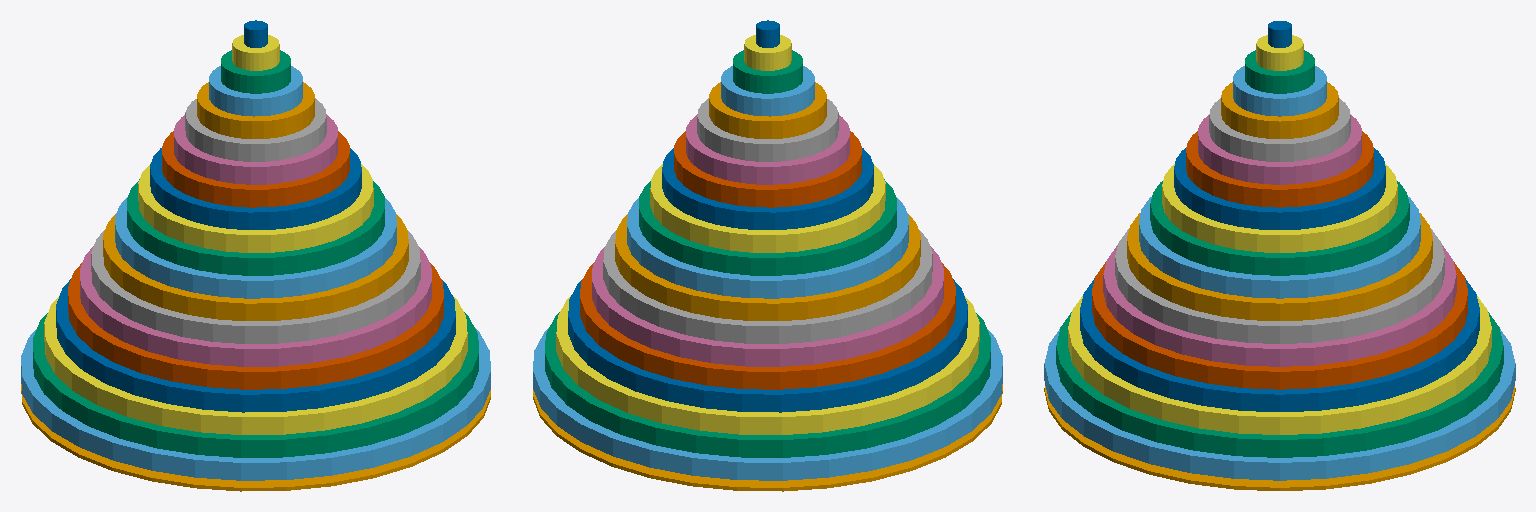
URDF robot description (5_cone):
<?xml version="1.0"?>

<robot name="5_cone">

    <!-- The base --> 
    <link name="base_link">
        <inertial>
            <origin xyz="0 0 0" rpy="0 0 0"/>
            <mass value="1"/>
            <inertia ixx="0.1" ixy="0.0" ixz="0.0" iyy="0.1" iyz="0.0" izz="0.1"/>
        </inertial>
        <visual>
            <origin xyz="0 0 0" rpy="0 0 0"/>
            <geometry>
                <cylinder length="0.01" radius="0.6"/>
            </geometry>
        </visual>
        <collision>
            <origin xyz="0 0 0" rpy="0 0 0"/>
            <geometry>
                <cylinder length="0.01" radius="0.6"/>
            </geometry>
        </collision>
    </link>

    <!-- 0 -->
    <link name="0_link">
        <inertial>
            <origin xyz="0 0 0" rpy="0 0 0"/>
            <mass value="1"/>
            <inertia ixx="0.01" ixy="0.0" ixz="0.0" iyy="0.01" iyz="0.0" izz="0.01"/>
        </inertial>
        <visual>
            <origin xyz="0 0 0" rpy="0 0 0"/>
            <geometry>
                <cylinder length="0.05" radius="0.6"/>
            </geometry>
        </visual>
        <collision>
            <origin xyz="0 0 0" rpy="0 0 0"/>
            <geometry>
                <cylinder length="0.05" radius="0.6"/>
            </geometry>
        </collision>
    </link>

    <!-- Joint from base to 0 -->
    <joint name="base_0_joint" type="fixed">
        <parent link="base_link"/>
        <child link="0_link"/>
        <origin xyz="0 0 0.05" rpy="0 0 0"/>
    </joint>

    <!-- 1 -->
    <link name="1_link">
        <inertial>
            <origin xyz="0 0 0" rpy="0 0 0"/>
            <mass value="1"/>
            <inertia ixx="0.01" ixy="0.0" ixz="0.0" iyy="0.01" iyz="0.0" izz="0.01"/>
        </inertial>
        <visual>
            <origin xyz="0 0 0" rpy="0 0 0"/>
            <geometry>
                <cylinder length="0.05" radius="0.57"/>
            </geometry>
        </visual>
        <collision>
            <origin xyz="0 0 0" rpy="0 0 0"/>
            <geometry>
                <cylinder length="0.05" radius="0.57"/>
            </geometry>
        </collision>
    </link>

    <!-- Joint from 0 to 1 -->
    <joint name="0_1_joint" type="fixed">
        <parent link="0_link"/>
        <child link="1_link"/>
        <origin xyz="0 0 0.05" rpy="0 0 0"/>
    </joint>

    <!-- 2 -->
    <link name="2_link">
        <inertial>
            <origin xyz="0 0 0" rpy="0 0 0"/>
            <mass value="1"/>
            <inertia ixx="0.01" ixy="0.0" ixz="0.0" iyy="0.01" iyz="0.0" izz="0.01"/>
        </inertial>
        <visual>
            <origin xyz="0 0 0" rpy="0 0 0"/>
            <geometry>
                <cylinder length="0.05" radius="0.54"/>
            </geometry>
        </visual>
        <collision>
            <origin xyz="0 0 0" rpy="0 0 0"/>
            <geometry>
                <cylinder length="0.05" radius="0.54"/>
            </geometry>
        </collision>
    </link>

    <!-- Joint from 1 to 2 -->
    <joint name="1_2_joint" type="fixed">
        <parent link="1_link"/>
        <child link="2_link"/>
        <origin xyz="0 0 0.05" rpy="0 0 0"/>
    </joint>

    <!-- 3 -->
    <link name="3_link">
        <inertial>
            <origin xyz="0 0 0" rpy="0 0 0"/>
            <mass value="1"/>
            <inertia ixx="0.01" ixy="0.0" ixz="0.0" iyy="0.01" iyz="0.0" izz="0.01"/>
        </inertial>
        <visual>
            <origin xyz="0 0 0" rpy="0 0 0"/>
            <geometry>
                <cylinder length="0.05" radius="0.51"/>
            </geometry>
        </visual>
        <collision>
            <origin xyz="0 0 0" rpy="0 0 0"/>
            <geometry>
                <cylinder length="0.05" radius="0.51"/>
            </geometry>
        </collision>
    </link>

    <!-- Joint from 2 to 3 -->
    <joint name="2_3_joint" type="fixed">
        <parent link="2_link"/>
        <child link="3_link"/>
        <origin xyz="0 0 0.05" rpy="0 0 0"/>
    </joint>

    <!-- 4 -->
    <link name="4_link">
        <inertial>
            <origin xyz="0 0 0" rpy="0 0 0"/>
            <mass value="1"/>
            <inertia ixx="0.01" ixy="0.0" ixz="0.0" iyy="0.01" iyz="0.0" izz="0.01"/>
        </inertial>
        <visual>
            <origin xyz="0 0 0" rpy="0 0 0"/>
            <geometry>
                <cylinder length="0.05" radius="0.48"/>
            </geometry>
        </visual>
        <collision>
            <origin xyz="0 0 0" rpy="0 0 0"/>
            <geometry>
                <cylinder length="0.05" radius="0.48"/>
            </geometry>
        </collision>
    </link>

    <!-- Joint from 3 to 4 -->
    <joint name="3_4_joint" type="fixed">
        <parent link="3_link"/>
        <child link="4_link"/>
        <origin xyz="0 0 0.05" rpy="0 0 0"/>
    </joint>

    <!-- 5 -->
    <link name="5_link">
        <inertial>
            <origin xyz="0 0 0" rpy="0 0 0"/>
            <mass value="1"/>
            <inertia ixx="0.01" ixy="0.0" ixz="0.0" iyy="0.01" iyz="0.0" izz="0.01"/>
        </inertial>
        <visual>
            <origin xyz="0 0 0" rpy="0 0 0"/>
            <geometry>
                <cylinder length="0.05" radius="0.44999999999999996"/>
            </geometry>
        </visual>
        <collision>
            <origin xyz="0 0 0" rpy="0 0 0"/>
            <geometry>
                <cylinder length="0.05" radius="0.44999999999999996"/>
            </geometry>
        </collision>
    </link>

    <!-- Joint from 4 to 5 -->
    <joint name="4_5_joint" type="fixed">
        <parent link="4_link"/>
        <child link="5_link"/>
        <origin xyz="0 0 0.05" rpy="0 0 0"/>
    </joint>

    <!-- 6 -->
    <link name="6_link">
        <inertial>
            <origin xyz="0 0 0" rpy="0 0 0"/>
            <mass value="1"/>
            <inertia ixx="0.01" ixy="0.0" ixz="0.0" iyy="0.01" iyz="0.0" izz="0.01"/>
        </inertial>
        <visual>
            <origin xyz="0 0 0" rpy="0 0 0"/>
            <geometry>
                <cylinder length="0.05" radius="0.42"/>
            </geometry>
        </visual>
        <collision>
            <origin xyz="0 0 0" rpy="0 0 0"/>
            <geometry>
                <cylinder length="0.05" radius="0.42"/>
            </geometry>
        </collision>
    </link>

    <!-- Joint from 5 to 6 -->
    <joint name="5_6_joint" type="fixed">
        <parent link="5_link"/>
        <child link="6_link"/>
        <origin xyz="0 0 0.05" rpy="0 0 0"/>
    </joint>

    <!-- 7 -->
    <link name="7_link">
        <inertial>
            <origin xyz="0 0 0" rpy="0 0 0"/>
            <mass value="1"/>
            <inertia ixx="0.01" ixy="0.0" ixz="0.0" iyy="0.01" iyz="0.0" izz="0.01"/>
        </inertial>
        <visual>
            <origin xyz="0 0 0" rpy="0 0 0"/>
            <geometry>
                <cylinder length="0.05" radius="0.39"/>
            </geometry>
        </visual>
        <collision>
            <origin xyz="0 0 0" rpy="0 0 0"/>
            <geometry>
                <cylinder length="0.05" radius="0.39"/>
            </geometry>
        </collision>
    </link>

    <!-- Joint from 6 to 7 -->
    <joint name="6_7_joint" type="fixed">
        <parent link="6_link"/>
        <child link="7_link"/>
        <origin xyz="0 0 0.05" rpy="0 0 0"/>
    </joint>

    <!-- 8 -->
    <link name="8_link">
        <inertial>
            <origin xyz="0 0 0" rpy="0 0 0"/>
            <mass value="1"/>
            <inertia ixx="0.01" ixy="0.0" ixz="0.0" iyy="0.01" iyz="0.0" izz="0.01"/>
        </inertial>
        <visual>
            <origin xyz="0 0 0" rpy="0 0 0"/>
            <geometry>
                <cylinder length="0.05" radius="0.36"/>
            </geometry>
        </visual>
        <collision>
            <origin xyz="0 0 0" rpy="0 0 0"/>
            <geometry>
                <cylinder length="0.05" radius="0.36"/>
            </geometry>
        </collision>
    </link>

    <!-- Joint from 7 to 8 -->
    <joint name="7_8_joint" type="fixed">
        <parent link="7_link"/>
        <child link="8_link"/>
        <origin xyz="0 0 0.05" rpy="0 0 0"/>
    </joint>

    <!-- 9 -->
    <link name="9_link">
        <inertial>
            <origin xyz="0 0 0" rpy="0 0 0"/>
            <mass value="1"/>
            <inertia ixx="0.01" ixy="0.0" ixz="0.0" iyy="0.01" iyz="0.0" izz="0.01"/>
        </inertial>
        <visual>
            <origin xyz="0 0 0" rpy="0 0 0"/>
            <geometry>
                <cylinder length="0.05" radius="0.32999999999999996"/>
            </geometry>
        </visual>
        <collision>
            <origin xyz="0 0 0" rpy="0 0 0"/>
            <geometry>
                <cylinder length="0.05" radius="0.32999999999999996"/>
            </geometry>
        </collision>
    </link>

    <!-- Joint from 8 to 9 -->
    <joint name="8_9_joint" type="fixed">
        <parent link="8_link"/>
        <child link="9_link"/>
        <origin xyz="0 0 0.05" rpy="0 0 0"/>
    </joint>

    <!-- 10 -->
    <link name="10_link">
        <inertial>
            <origin xyz="0 0 0" rpy="0 0 0"/>
            <mass value="1"/>
            <inertia ixx="0.01" ixy="0.0" ixz="0.0" iyy="0.01" iyz="0.0" izz="0.01"/>
        </inertial>
        <visual>
            <origin xyz="0 0 0" rpy="0 0 0"/>
            <geometry>
                <cylinder length="0.05" radius="0.3"/>
            </geometry>
        </visual>
        <collision>
            <origin xyz="0 0 0" rpy="0 0 0"/>
            <geometry>
                <cylinder length="0.05" radius="0.3"/>
            </geometry>
        </collision>
    </link>

    <!-- Joint from 9 to 10 -->
    <joint name="9_10_joint" type="fixed">
        <parent link="9_link"/>
        <child link="10_link"/>
        <origin xyz="0 0 0.05" rpy="0 0 0"/>
    </joint>

    <!-- 11 -->
    <link name="11_link">
        <inertial>
            <origin xyz="0 0 0" rpy="0 0 0"/>
            <mass value="1"/>
            <inertia ixx="0.01" ixy="0.0" ixz="0.0" iyy="0.01" iyz="0.0" izz="0.01"/>
        </inertial>
        <visual>
            <origin xyz="0 0 0" rpy="0 0 0"/>
            <geometry>
                <cylinder length="0.05" radius="0.27"/>
            </geometry>
        </visual>
        <collision>
            <origin xyz="0 0 0" rpy="0 0 0"/>
            <geometry>
                <cylinder length="0.05" radius="0.27"/>
            </geometry>
        </collision>
    </link>

    <!-- Joint from 10 to 11 -->
    <joint name="10_11_joint" type="fixed">
        <parent link="10_link"/>
        <child link="11_link"/>
        <origin xyz="0 0 0.05" rpy="0 0 0"/>
    </joint>

    <!-- 12 -->
    <link name="12_link">
        <inertial>
            <origin xyz="0 0 0" rpy="0 0 0"/>
            <mass value="1"/>
            <inertia ixx="0.01" ixy="0.0" ixz="0.0" iyy="0.01" iyz="0.0" izz="0.01"/>
        </inertial>
        <visual>
            <origin xyz="0 0 0" rpy="0 0 0"/>
            <geometry>
                <cylinder length="0.05" radius="0.24"/>
            </geometry>
        </visual>
        <collision>
            <origin xyz="0 0 0" rpy="0 0 0"/>
            <geometry>
                <cylinder length="0.05" radius="0.24"/>
            </geometry>
        </collision>
    </link>

    <!-- Joint from 11 to 12 -->
    <joint name="11_12_joint" type="fixed">
        <parent link="11_link"/>
        <child link="12_link"/>
        <origin xyz="0 0 0.05" rpy="0 0 0"/>
    </joint>

    <!-- 13 -->
    <link name="13_link">
        <inertial>
            <origin xyz="0 0 0" rpy="0 0 0"/>
            <mass value="1"/>
            <inertia ixx="0.01" ixy="0.0" ixz="0.0" iyy="0.01" iyz="0.0" izz="0.01"/>
        </inertial>
        <visual>
            <origin xyz="0 0 0" rpy="0 0 0"/>
            <geometry>
                <cylinder length="0.05" radius="0.20999999999999996"/>
            </geometry>
        </visual>
        <collision>
            <origin xyz="0 0 0" rpy="0 0 0"/>
            <geometry>
                <cylinder length="0.05" radius="0.20999999999999996"/>
            </geometry>
        </collision>
    </link>

    <!-- Joint from 12 to 13 -->
    <joint name="12_13_joint" type="fixed">
        <parent link="12_link"/>
        <child link="13_link"/>
        <origin xyz="0 0 0.05" rpy="0 0 0"/>
    </joint>

    <!-- 14 -->
    <link name="14_link">
        <inertial>
            <origin xyz="0 0 0" rpy="0 0 0"/>
            <mass value="1"/>
            <inertia ixx="0.01" ixy="0.0" ixz="0.0" iyy="0.01" iyz="0.0" izz="0.01"/>
        </inertial>
        <visual>
            <origin xyz="0 0 0" rpy="0 0 0"/>
            <geometry>
                <cylinder length="0.05" radius="0.18"/>
            </geometry>
        </visual>
        <collision>
            <origin xyz="0 0 0" rpy="0 0 0"/>
            <geometry>
                <cylinder length="0.05" radius="0.18"/>
            </geometry>
        </collision>
    </link>

    <!-- Joint from 13 to 14 -->
    <joint name="13_14_joint" type="fixed">
        <parent link="13_link"/>
        <child link="14_link"/>
        <origin xyz="0 0 0.05" rpy="0 0 0"/>
    </joint>

    <!-- 15 -->
    <link name="15_link">
        <inertial>
            <origin xyz="0 0 0" rpy="0 0 0"/>
            <mass value="1"/>
            <inertia ixx="0.01" ixy="0.0" ixz="0.0" iyy="0.01" iyz="0.0" izz="0.01"/>
        </inertial>
        <visual>
            <origin xyz="0 0 0" rpy="0 0 0"/>
            <geometry>
                <cylinder length="0.05" radius="0.15000000000000002"/>
            </geometry>
        </visual>
        <collision>
            <origin xyz="0 0 0" rpy="0 0 0"/>
            <geometry>
                <cylinder length="0.05" radius="0.15000000000000002"/>
            </geometry>
        </collision>
    </link>

    <!-- Joint from 14 to 15 -->
    <joint name="14_15_joint" type="fixed">
        <parent link="14_link"/>
        <child link="15_link"/>
        <origin xyz="0 0 0.05" rpy="0 0 0"/>
    </joint>

    <!-- 16 -->
    <link name="16_link">
        <inertial>
            <origin xyz="0 0 0" rpy="0 0 0"/>
            <mass value="1"/>
            <inertia ixx="0.01" ixy="0.0" ixz="0.0" iyy="0.01" iyz="0.0" izz="0.01"/>
        </inertial>
        <visual>
            <origin xyz="0 0 0" rpy="0 0 0"/>
            <geometry>
                <cylinder length="0.05" radius="0.12"/>
            </geometry>
        </visual>
        <collision>
            <origin xyz="0 0 0" rpy="0 0 0"/>
            <geometry>
                <cylinder length="0.05" radius="0.12"/>
            </geometry>
        </collision>
    </link>

    <!-- Joint from 15 to 16 -->
    <joint name="15_16_joint" type="fixed">
        <parent link="15_link"/>
        <child link="16_link"/>
        <origin xyz="0 0 0.05" rpy="0 0 0"/>
    </joint>

    <!-- 17 -->
    <link name="17_link">
        <inertial>
            <origin xyz="0 0 0" rpy="0 0 0"/>
            <mass value="1"/>
            <inertia ixx="0.01" ixy="0.0" ixz="0.0" iyy="0.01" iyz="0.0" izz="0.01"/>
        </inertial>
        <visual>
            <origin xyz="0 0 0" rpy="0 0 0"/>
            <geometry>
                <cylinder length="0.05" radius="0.08999999999999997"/>
            </geometry>
        </visual>
        <collision>
            <origin xyz="0 0 0" rpy="0 0 0"/>
            <geometry>
                <cylinder length="0.05" radius="0.08999999999999997"/>
            </geometry>
        </collision>
    </link>

    <!-- Joint from 16 to 17 -->
    <joint name="16_17_joint" type="fixed">
        <parent link="16_link"/>
        <child link="17_link"/>
        <origin xyz="0 0 0.05" rpy="0 0 0"/>
    </joint>

    <!-- 18 -->
    <link name="18_link">
        <inertial>
            <origin xyz="0 0 0" rpy="0 0 0"/>
            <mass value="1"/>
            <inertia ixx="0.01" ixy="0.0" ixz="0.0" iyy="0.01" iyz="0.0" izz="0.01"/>
        </inertial>
        <visual>
            <origin xyz="0 0 0" rpy="0 0 0"/>
            <geometry>
                <cylinder length="0.05" radius="0.05999999999999994"/>
            </geometry>
        </visual>
        <collision>
            <origin xyz="0 0 0" rpy="0 0 0"/>
            <geometry>
                <cylinder length="0.05" radius="0.05999999999999994"/>
            </geometry>
        </collision>
    </link>

    <!-- Joint from 17 to 18 -->
    <joint name="17_18_joint" type="fixed">
        <parent link="17_link"/>
        <child link="18_link"/>
        <origin xyz="0 0 0.05" rpy="0 0 0"/>
    </joint>

    <!-- 19 -->
    <link name="19_link">
        <inertial>
            <origin xyz="0 0 0" rpy="0 0 0"/>
            <mass value="1"/>
            <inertia ixx="0.01" ixy="0.0" ixz="0.0" iyy="0.01" iyz="0.0" izz="0.01"/>
        </inertial>
        <visual>
            <origin xyz="0 0 0" rpy="0 0 0"/>
            <geometry>
                <cylinder length="0.05" radius="0.030000000000000027"/>
            </geometry>
        </visual>
        <collision>
            <origin xyz="0 0 0" rpy="0 0 0"/>
            <geometry>
                <cylinder length="0.05" radius="0.030000000000000027"/>
            </geometry>
        </collision>
    </link>

    <!-- Joint from 18 to 19 -->
    <joint name="18_19_joint" type="fixed">
        <parent link="18_link"/>
        <child link="19_link"/>
        <origin xyz="0 0 0.05" rpy="0 0 0"/>
    </joint>

</robot>

--- What the picture shows (computed from the rendered views, not written in the file) ---
The picture shows the robot from 3 angles, left to right: view 1: azimuth 30°, elevation 25°; view 2: azimuth 150°, elevation 25°; view 3: azimuth 270°, elevation 25°; orthographic projection.
Robot: 5_cone — 21 links, 20 joints (20 fixed); root link base_link; default pose: all joints at 0.
Links seen in each view (by area): view 1: 0_link, 1_link, 2_link, 3_link, 4_link, 5_link, 6_link, 7_link, 8_link, 9_link, 10_link, 11_link (+9 smaller); view 2: 0_link, 1_link, 2_link, 3_link, 4_link, 5_link, 6_link, 7_link, 8_link, 9_link, 10_link, 11_link (+9 smaller); view 3: 0_link, 1_link, 2_link, 3_link, 4_link, 5_link, 6_link, 7_link, 8_link, 9_link, 10_link, 11_link (+9 smaller).
Boxes of the visible links, bbox=[...] form: 0_link: bbox=[21, 328, 490, 480]; 1_link: bbox=[33, 312, 478, 457]; 2_link: bbox=[44, 295, 467, 434]; 3_link: bbox=[56, 279, 455, 412]; 4_link: bbox=[68, 263, 443, 389]; 5_link: bbox=[80, 246, 431, 366]; 6_link: bbox=[91, 230, 420, 343]; 7_link: bbox=[103, 214, 408, 320]; 8_link: bbox=[115, 197, 396, 298]; 9_link: bbox=[127, 179, 384, 275]; 10_link: bbox=[138, 163, 373, 252]; 11_link: bbox=[150, 148, 361, 229]; 0_link: bbox=[533, 328, 1002, 480]; 1_link: bbox=[545, 312, 990, 457]; 2_link: bbox=[556, 295, 979, 434]; 3_link: bbox=[568, 279, 967, 412]; 4_link: bbox=[580, 263, 955, 389]; 5_link: bbox=[592, 246, 943, 366]; 6_link: bbox=[603, 230, 932, 343]; 7_link: bbox=[615, 214, 920, 320]; 8_link: bbox=[627, 197, 908, 298]; 9_link: bbox=[639, 179, 896, 275]; 10_link: bbox=[650, 163, 885, 252]; 11_link: bbox=[662, 148, 873, 229]; 0_link: bbox=[1044, 329, 1515, 480]; 1_link: bbox=[1056, 312, 1503, 457]; 2_link: bbox=[1068, 296, 1491, 434]; 3_link: bbox=[1080, 278, 1479, 411]; 4_link: bbox=[1092, 262, 1467, 389]; 5_link: bbox=[1103, 245, 1456, 366]; 6_link: bbox=[1115, 229, 1444, 343]; 7_link: bbox=[1127, 213, 1432, 320]; 8_link: bbox=[1139, 197, 1420, 298]; 9_link: bbox=[1150, 181, 1409, 275]; 10_link: bbox=[1162, 164, 1397, 252]; 11_link: bbox=[1174, 148, 1385, 229].
Size in the robot's own frame: 1.2 by 1.2 by 1.03 metres.
Geometry: primitives only (box / cylinder / sphere), no mesh files.
